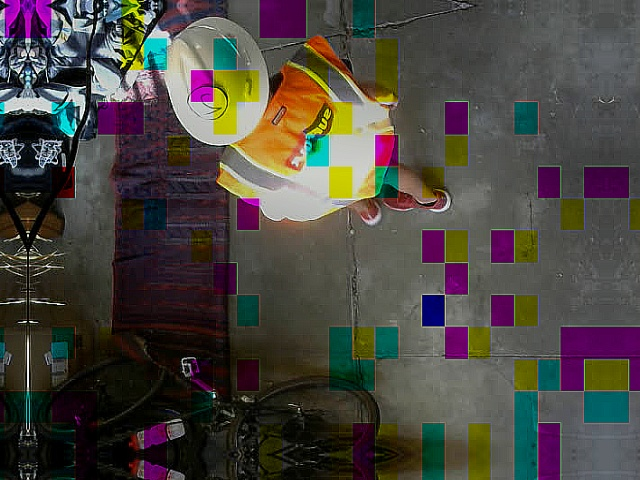two: (185, 85, 226, 120)
